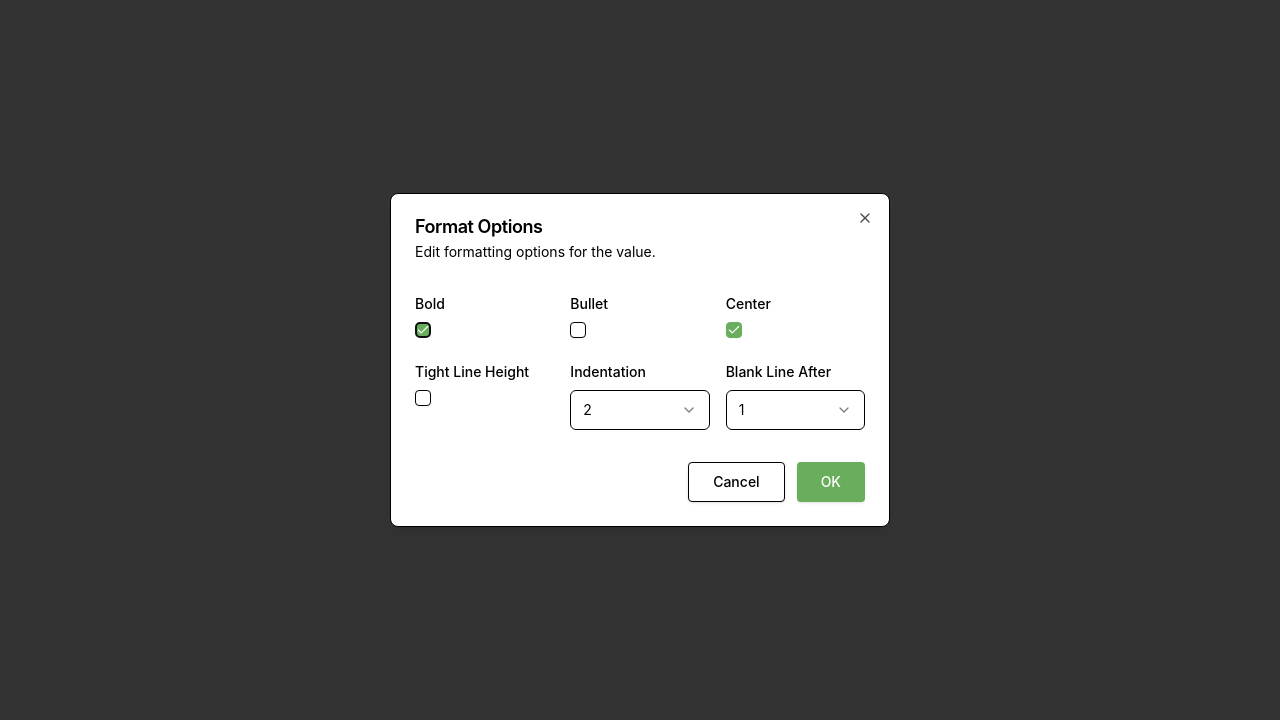
Scenario: FormatOptionsDialog › updates state when controls are changed
Click the checkbox named "Bold" below "Bold".
click(423, 330)  # box left=415, top=322, right=431, bottom=338
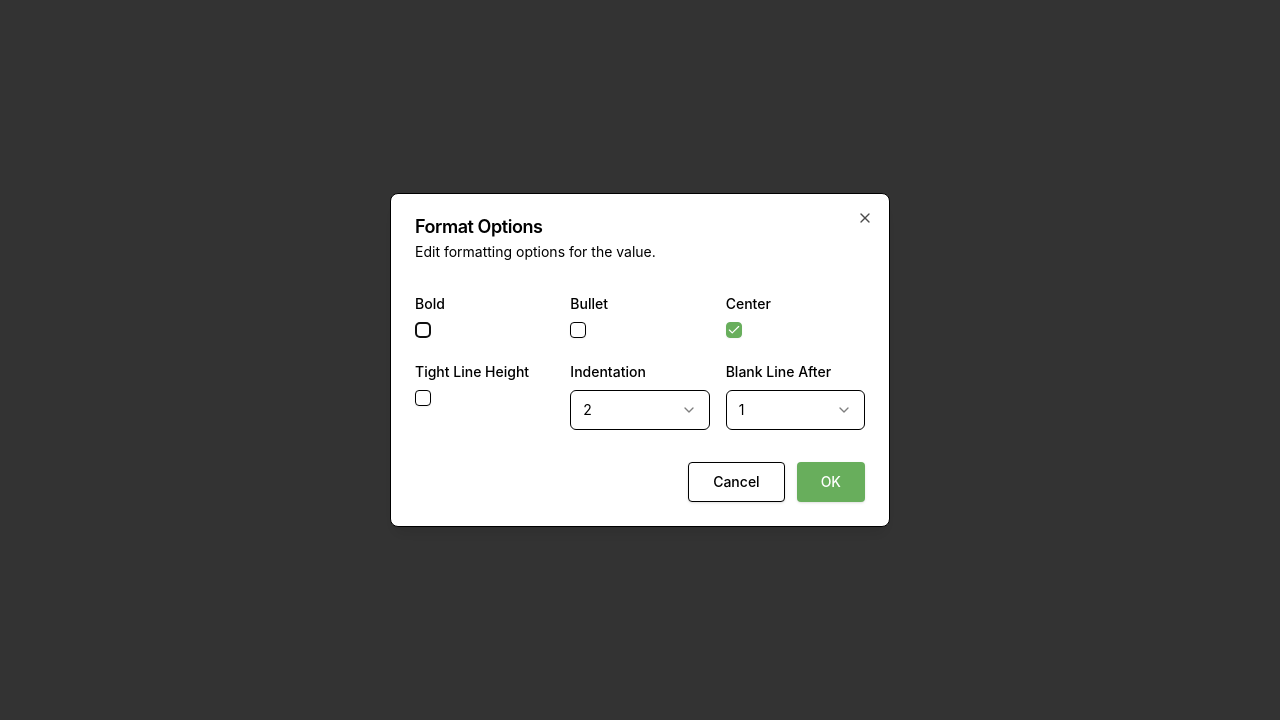
Check: the checkbox named "Bold" below "Bold" is not checked, box left=415, top=322, right=431, bottom=338
Click the checkbox named "Bullet" below "Bullet".
click(578, 330)  # box left=570, top=322, right=586, bottom=338
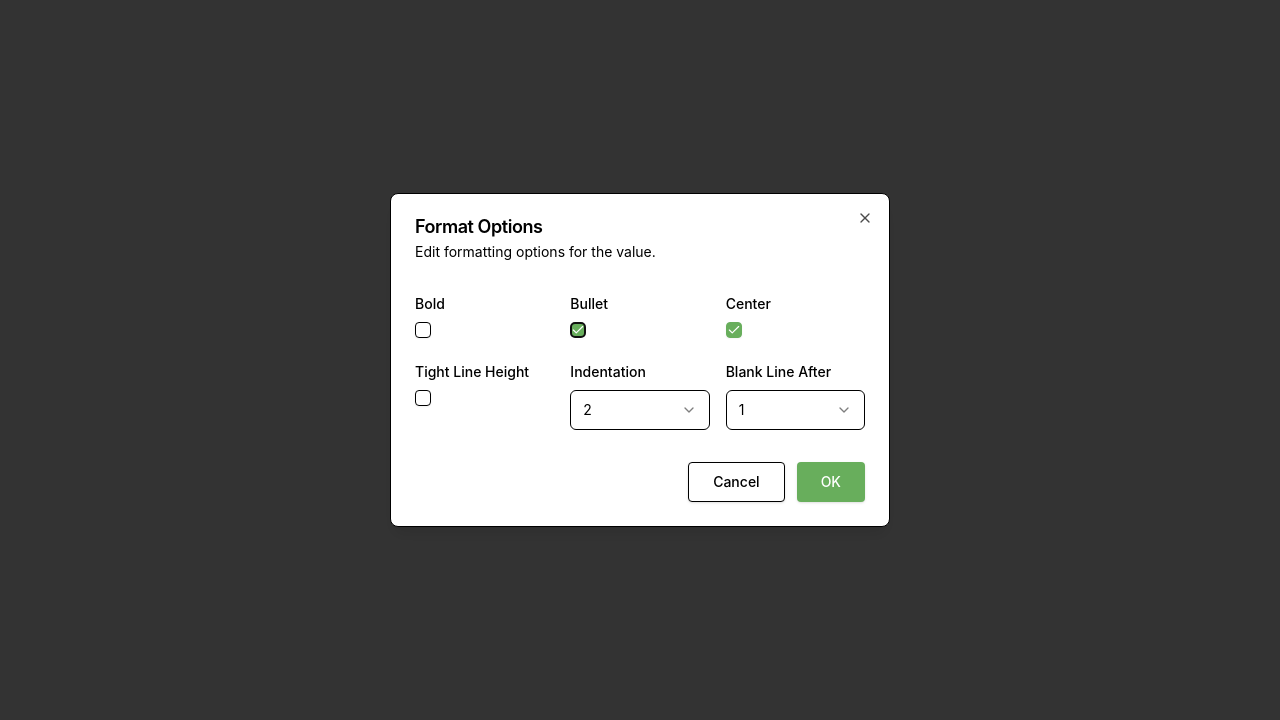
Check: the checkbox named "Bullet" below "Bullet" is checked, box left=570, top=322, right=586, bottom=338
Click the dropdown named "Indentation".
click(640, 410)  # box left=570, top=390, right=710, bottom=430
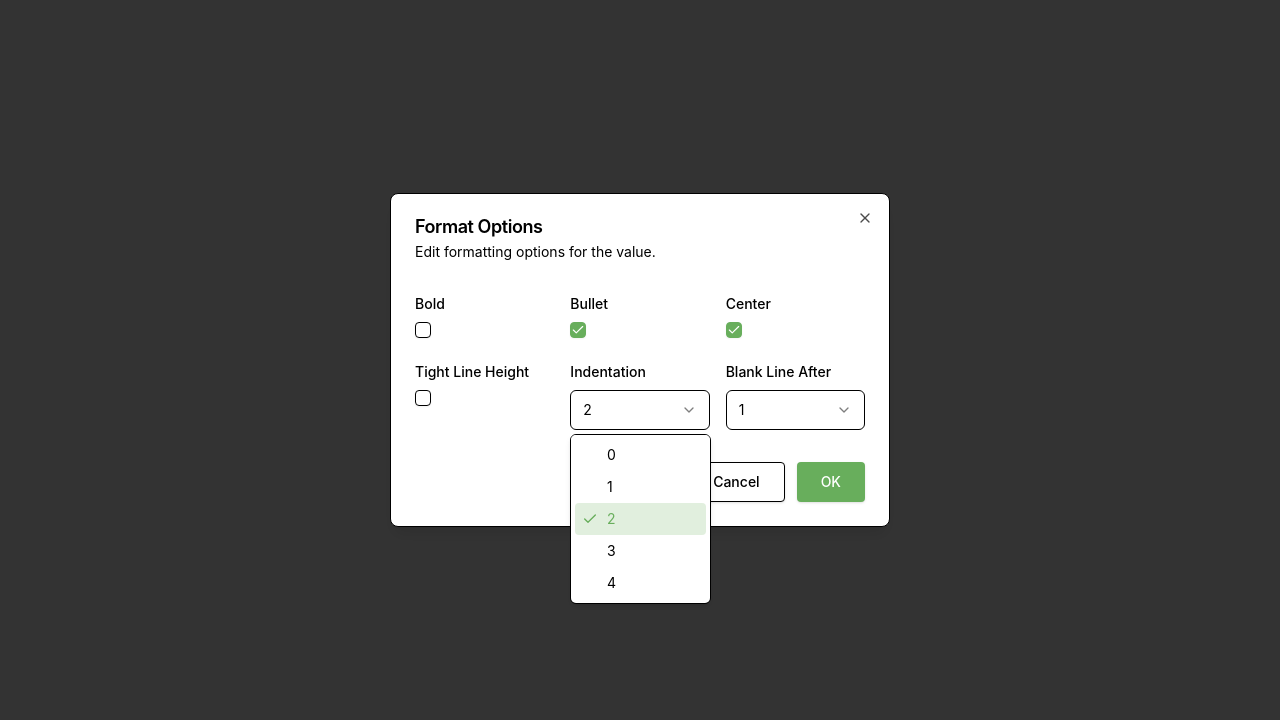
Click the option "4".
click(612, 582)  # box left=607, top=574, right=616, bottom=591
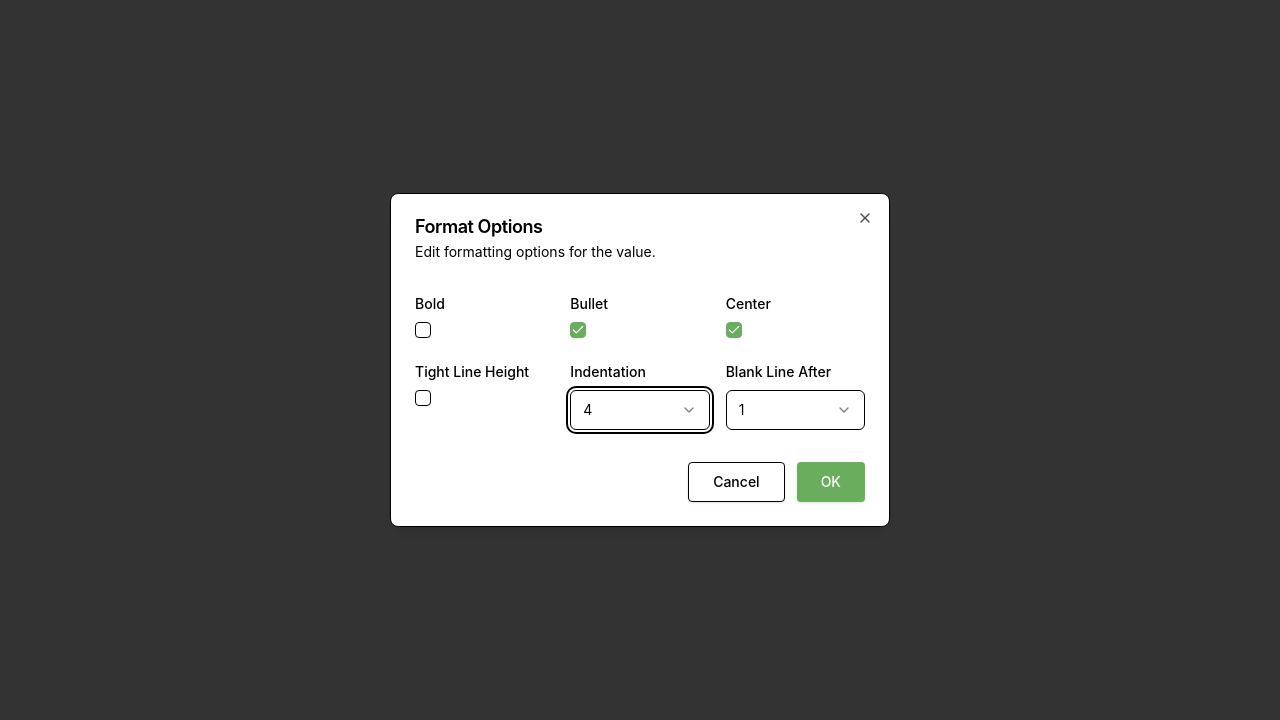
Check: the dropdown named "Indentation" reads "4", box left=570, top=390, right=710, bottom=430
Click the dropdown named "Blank Line After".
click(795, 410)  # box left=726, top=390, right=865, bottom=430
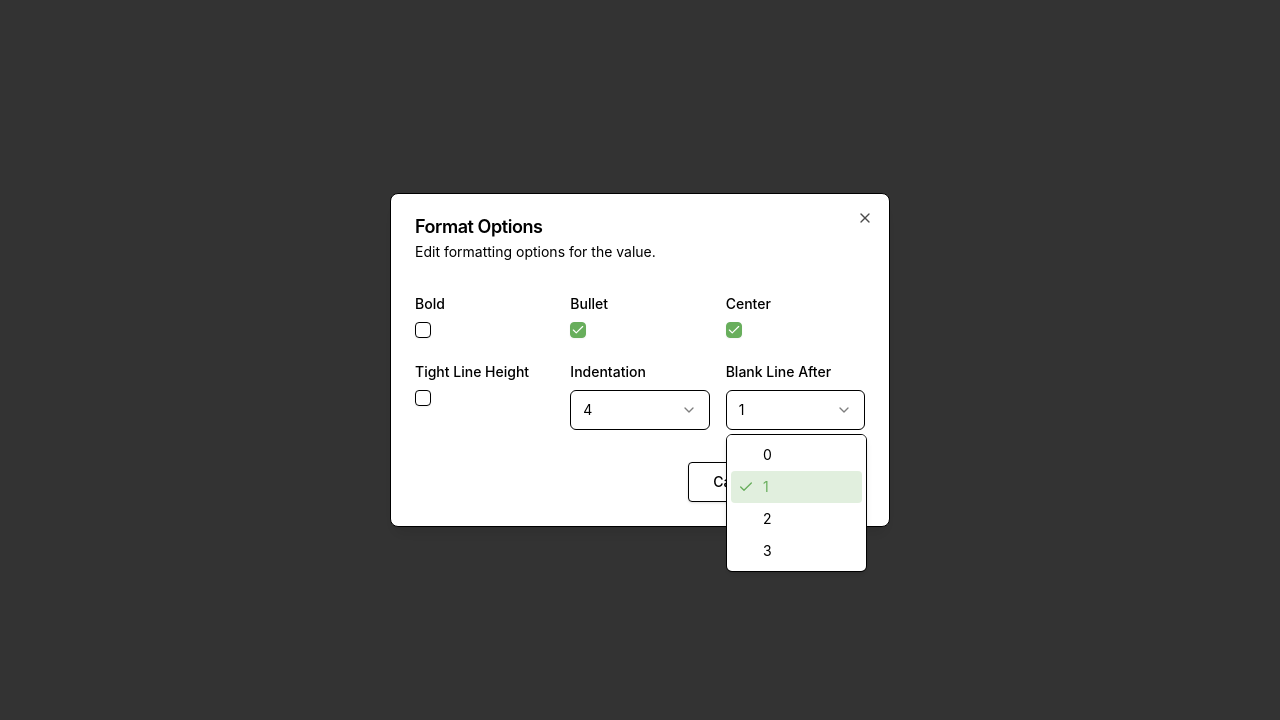
Click the option "3".
click(767, 550)  # box left=763, top=542, right=772, bottom=559
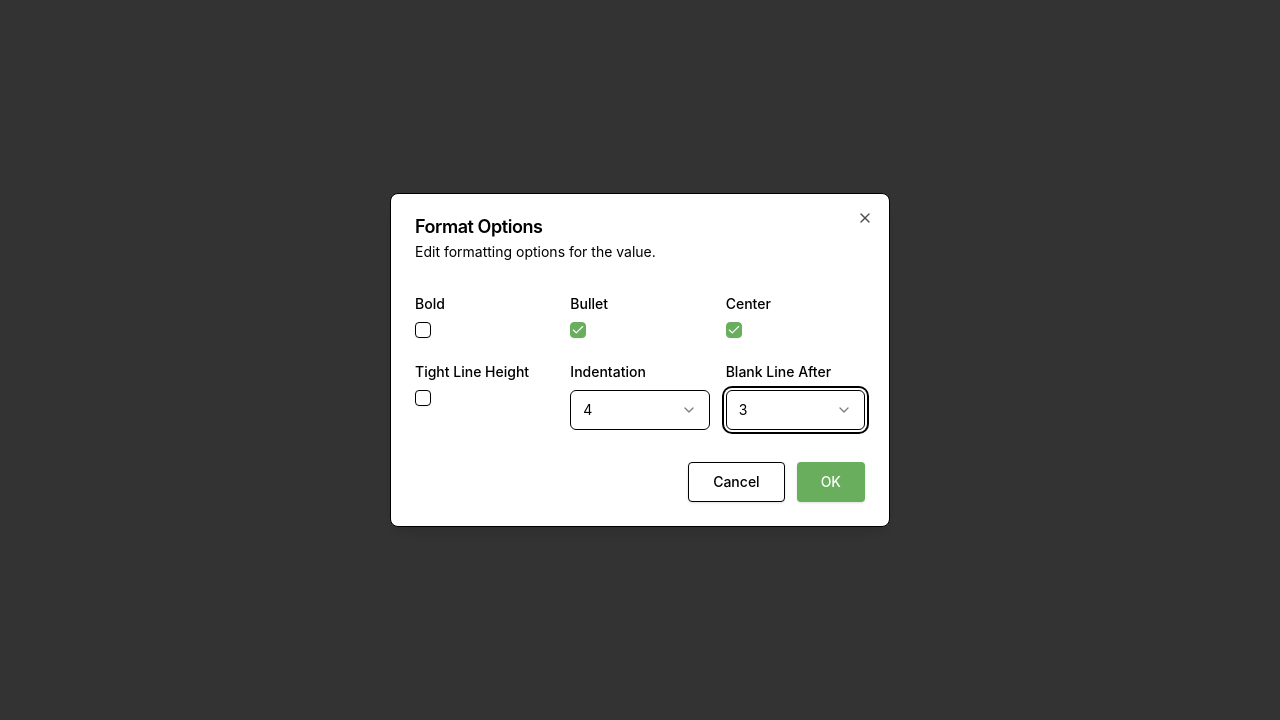
Check: the dropdown named "Blank Line After" reads "3", box left=726, top=390, right=865, bottom=430
